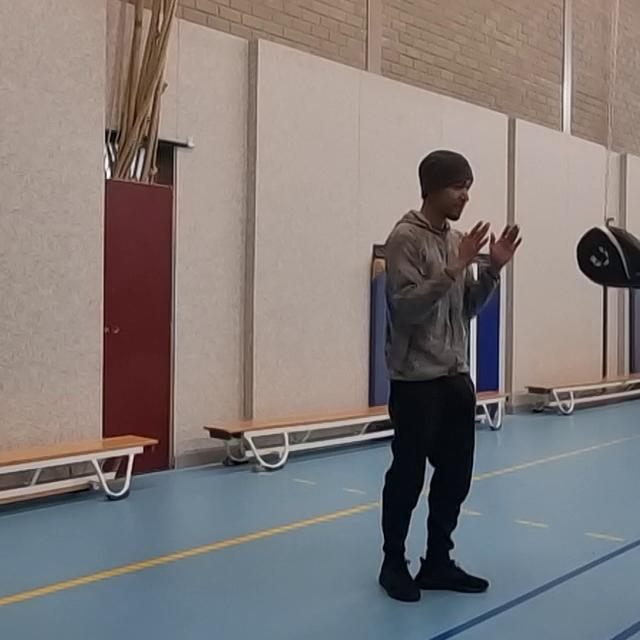paddle: (575, 224, 640, 290)
